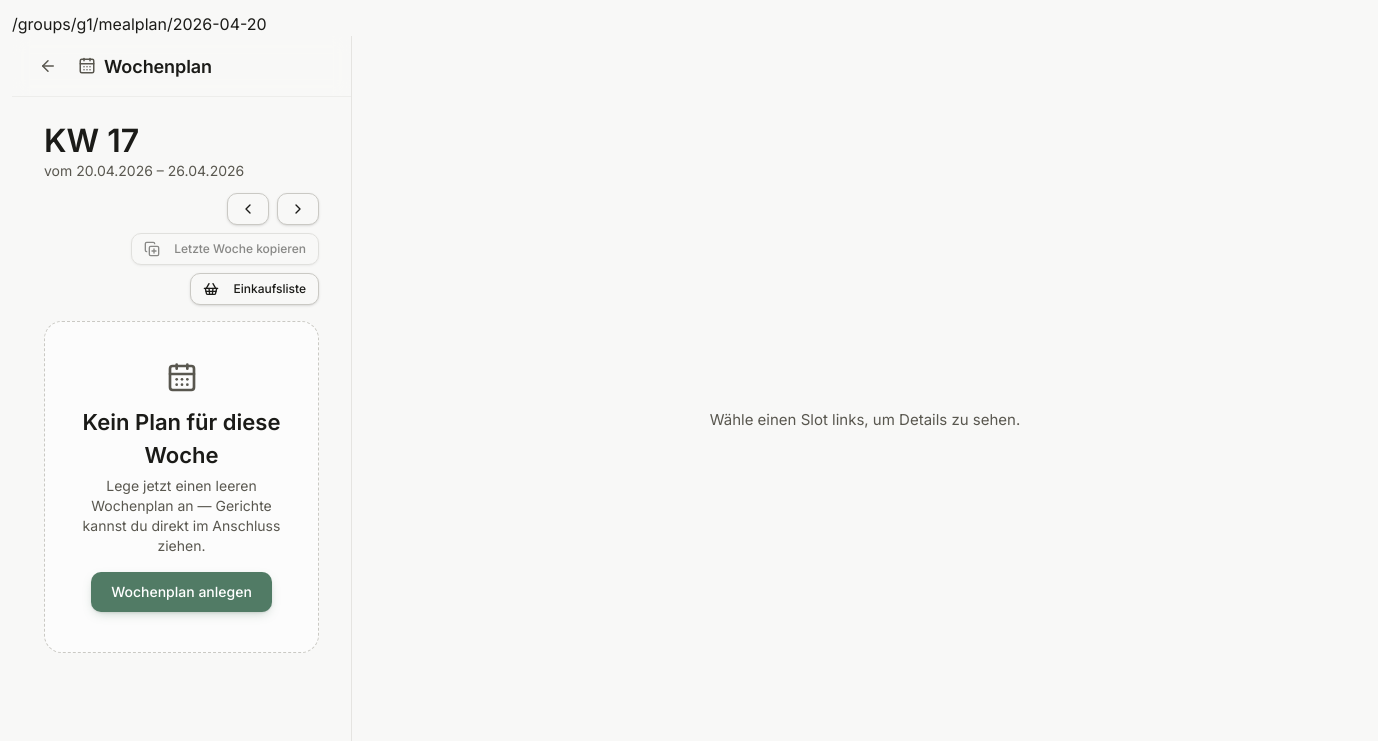
Test: <MealPlanPage /> › POSTs to create the plan when the CTA is clicked and then refetches
Click the button "Wochenplan anlegen". click: (182, 592)
box: [91,572,272,612]
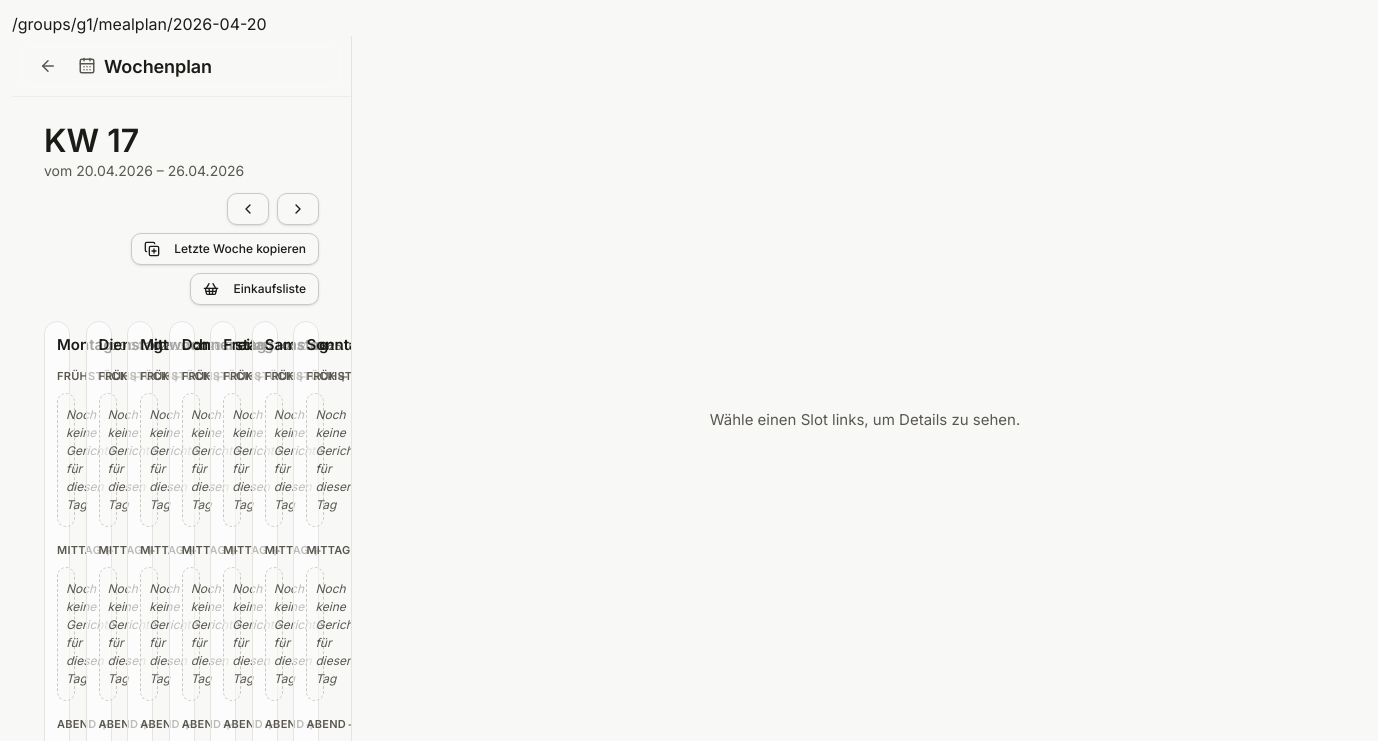
expect the button "Wochenplan anlegen" is gone: met
expect the text "Montag" is shown: met, box [57,334,112,356]
